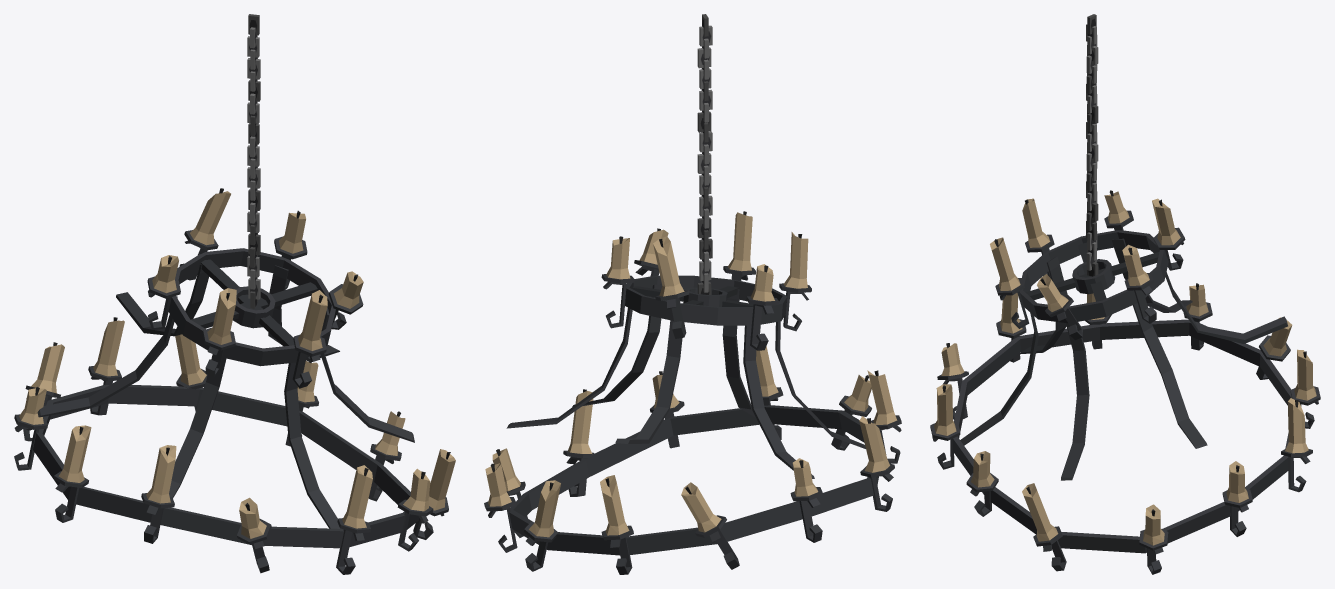
Rendered from SM_Prop_Candle_Chandelier_02_Broken.fbx.
The picture shows the model from 3 angles, left to right: view 1: azimuth 30°, elevation 25°; view 2: azimuth 150°, elevation 25°; view 3: azimuth 270°, elevation 25°; orthographic projection. The views are drawn at different scales.
Parts seen in each view (by area): view 1: SM_Prop_Candle_Chandelier_02_Broken; view 2: SM_Prop_Candle_Chandelier_02_Broken; view 3: SM_Prop_Candle_Chandelier_02_Broken.
Part boxes in pixels (x1,y1,x2,y2): SM_Prop_Candle_Chandelier_02_Broken: (14, 14, 455, 574); SM_Prop_Candle_Chandelier_02_Broken: (484, 14, 901, 574); SM_Prop_Candle_Chandelier_02_Broken: (930, 14, 1320, 574).
Bounding box in the file's own units: 2.37 × 3.27 × 2.36.
